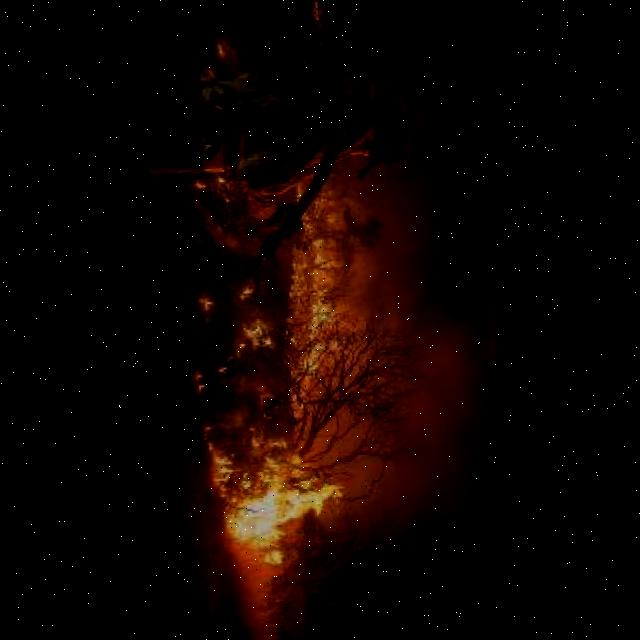fire: (198, 246, 366, 567)
